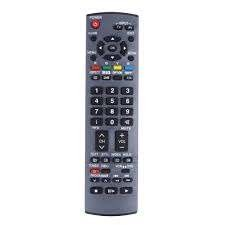remote control: (80, 8, 143, 216)
